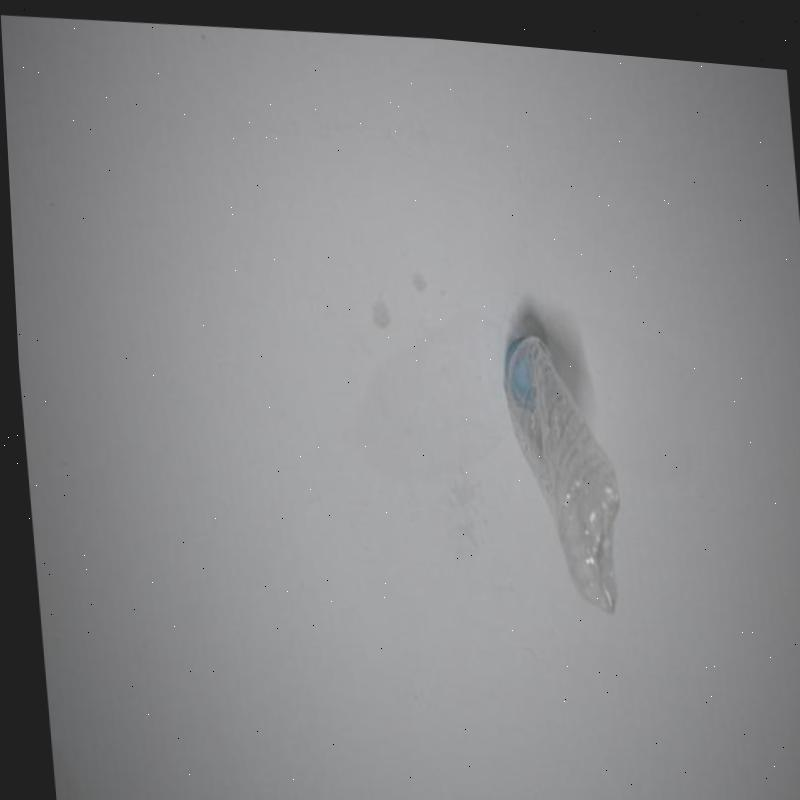botella: (493, 317, 623, 607)
